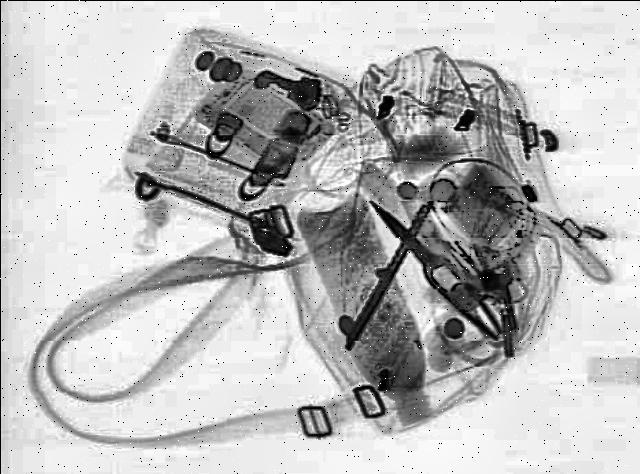Pliers: (350, 191, 518, 343)
